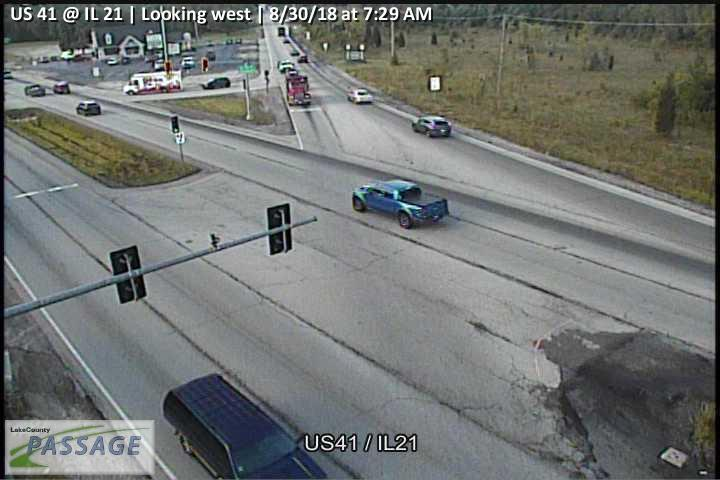SUV: (161, 373, 331, 480), (412, 114, 452, 139), (75, 99, 103, 117), (200, 77, 232, 90), (53, 80, 70, 95), (279, 60, 296, 72), (181, 57, 194, 69), (153, 59, 165, 70), (106, 57, 118, 65)
Sedan: (345, 88, 373, 105), (298, 55, 308, 63), (122, 56, 130, 65), (291, 49, 299, 56), (283, 38, 290, 45)
Truck: (351, 177, 452, 230), (121, 70, 183, 95), (285, 70, 312, 107), (24, 83, 47, 98)
